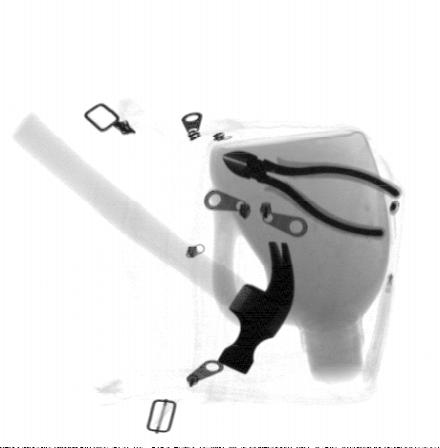Hammer: (12, 111, 296, 376)
Pliers: (222, 149, 403, 240)
